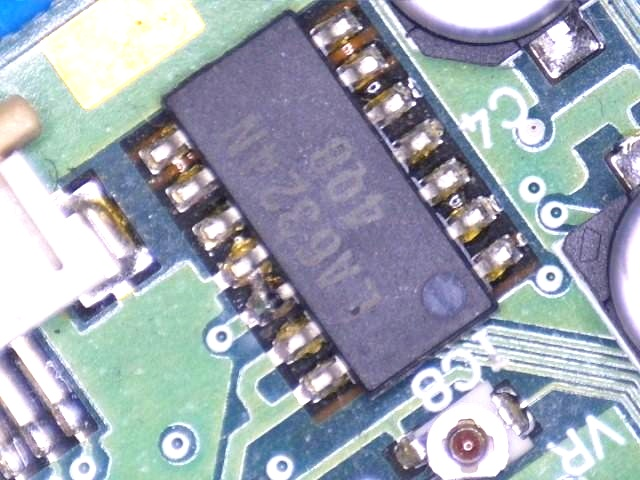pcb_defect: (232, 243, 296, 327)
